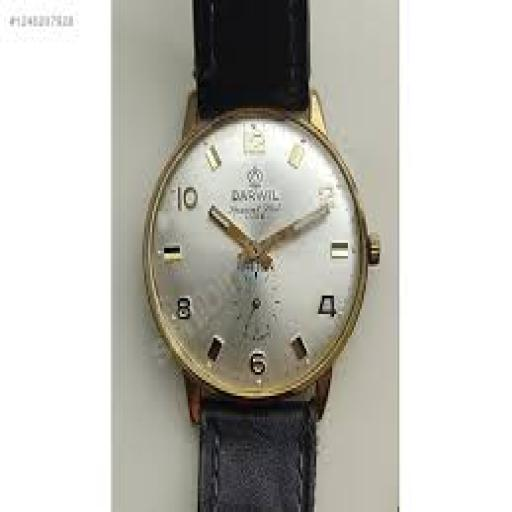KolSaati: (141, 1, 382, 511)
